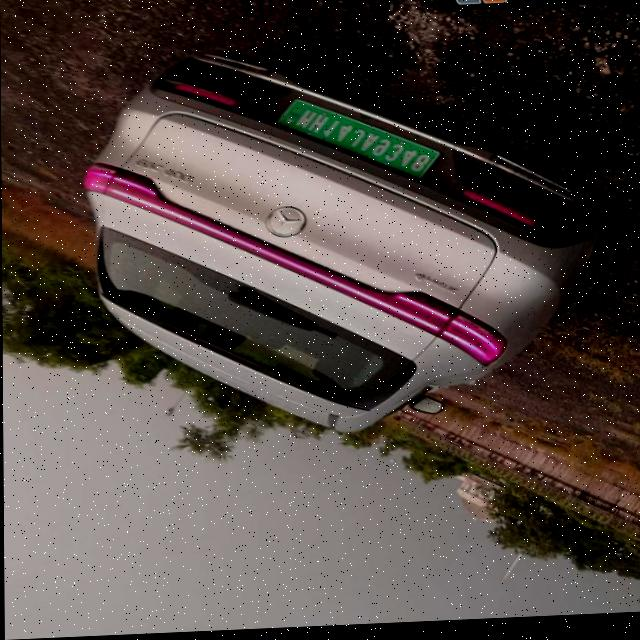plate: (273, 96, 439, 191)
